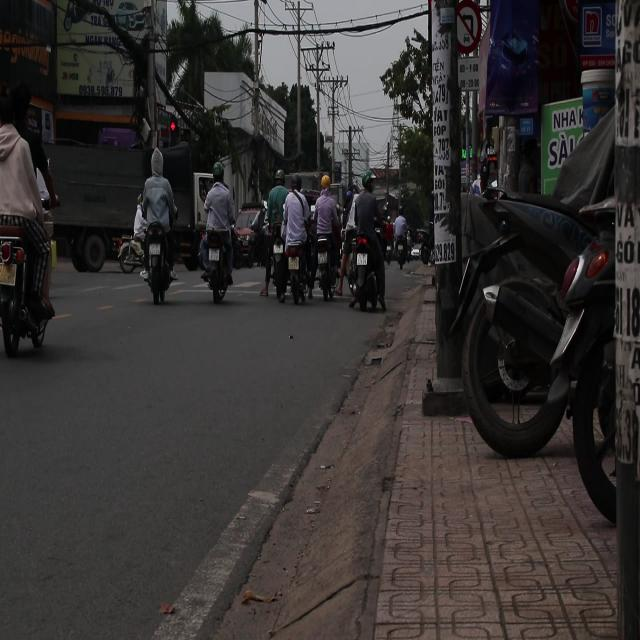car: (232, 207, 266, 267)
motorbike: (0, 212, 56, 357), (136, 194, 178, 305), (281, 222, 316, 312), (347, 232, 385, 308), (200, 233, 236, 302), (268, 206, 290, 299), (315, 224, 334, 313)
truck: (42, 142, 228, 275)
